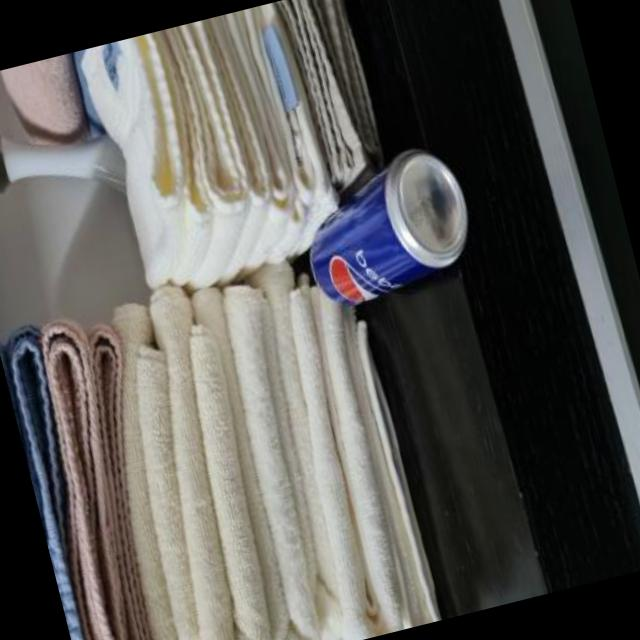metal: (307, 148, 462, 302)
